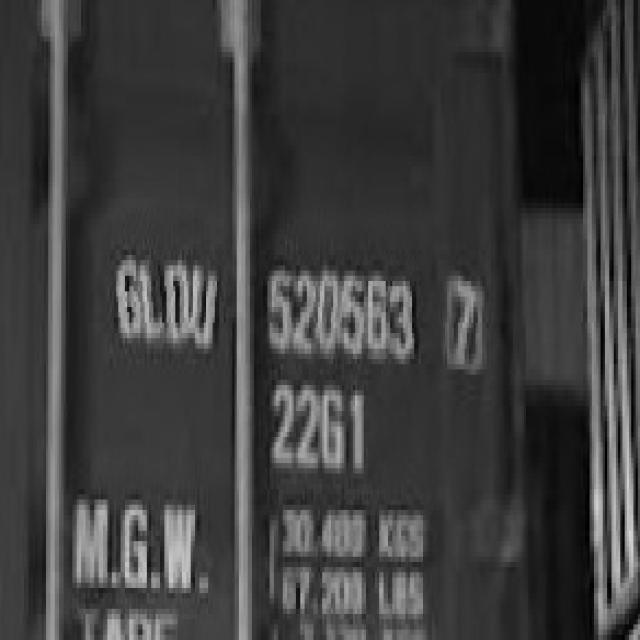dv: (442, 250, 492, 380)
owner: (107, 231, 223, 367)
serial: (256, 243, 424, 363)
size: (262, 372, 388, 493)
